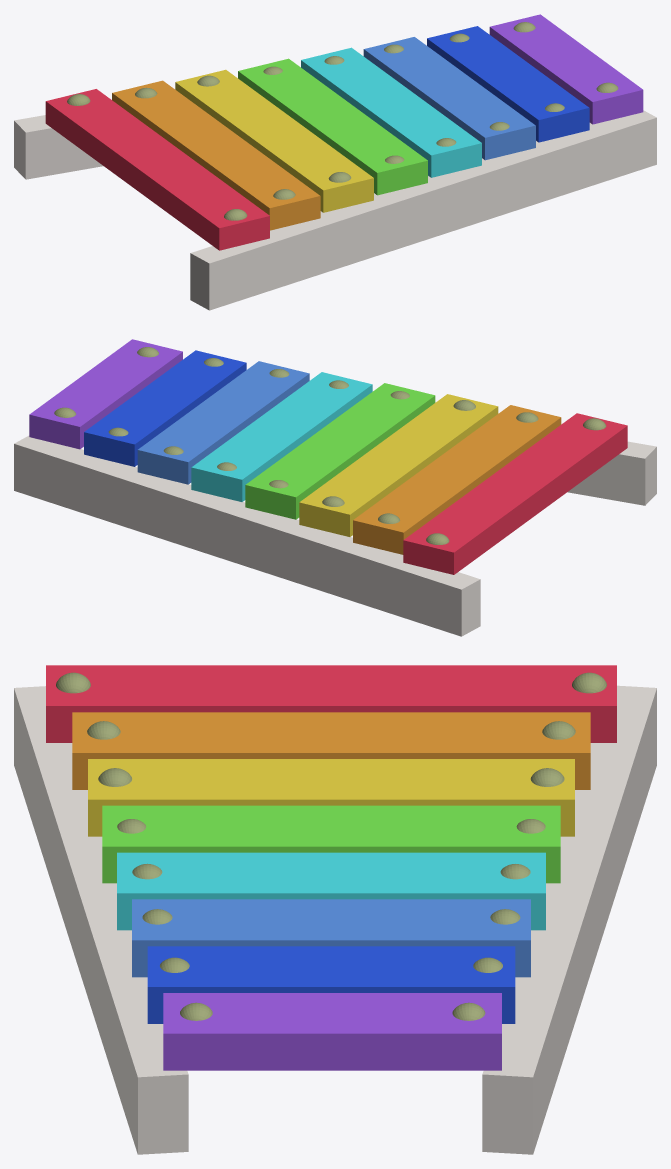
Rendered from xylophone.gltf.
3 renders of one model, top to bottom at view 1: azimuth 30°, elevation 25°; view 2: azimuth 150°, elevation 25°; view 3: azimuth 270°, elevation 25°, orthographic. The views are drawn at different scales.
Parts seen in each view (by area): view 1: frame, C, D, E, F, G, A, B, C2, Sphere; view 2: frame, C, D, E, F, G, A, B, C2, Sphere; view 3: frame, C, C2, D, E, F, G, A, B, Sphere, Sphere.002, Sphere.001 (+5 smaller).
Boxes of the visible parts, <box> form: frame: <box>14,110,656,310</box>; C: <box>45,89,269,250</box>; D: <box>112,80,320,230</box>; E: <box>175,69,373,212</box>; F: <box>238,58,427,195</box>; G: <box>301,47,481,177</box>; A: <box>363,37,535,160</box>; B: <box>427,26,589,142</box>; C2: <box>489,14,643,124</box>; Sphere: <box>67,94,247,220</box>; frame: <box>14,435,656,636</box>; C: <box>403,413,627,574</box>; D: <box>353,405,561,554</box>; E: <box>299,394,498,536</box>; F: <box>245,383,435,519</box>; G: <box>191,372,372,501</box>; A: <box>137,361,309,484</box>; B: <box>84,350,246,466</box>; C2: <box>29,339,182,449</box>; Sphere: <box>426,418,606,544</box>; frame: <box>14,685,656,1154</box>; C: <box>46,665,616,742</box>; C2: <box>163,993,501,1070</box>; D: <box>72,712,590,789</box>; E: <box>88,759,574,836</box>; F: <box>102,805,560,883</box>; G: <box>117,852,545,930</box>; A: <box>132,899,530,977</box>; B: <box>147,946,515,1023</box>; Sphere: <box>56,672,606,693</box>; Sphere.002: <box>98,768,564,786</box>; Sphere.001: <box>87,721,575,739</box>.
Size of the model in its own units: 0.4195 by 0.0627 by 0.2906.
